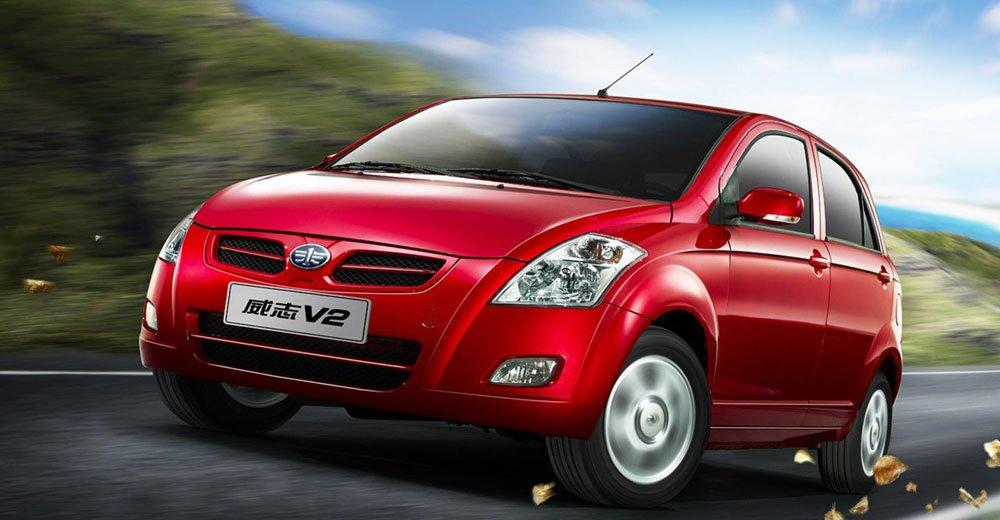Hatchback: (133, 70, 920, 520)
